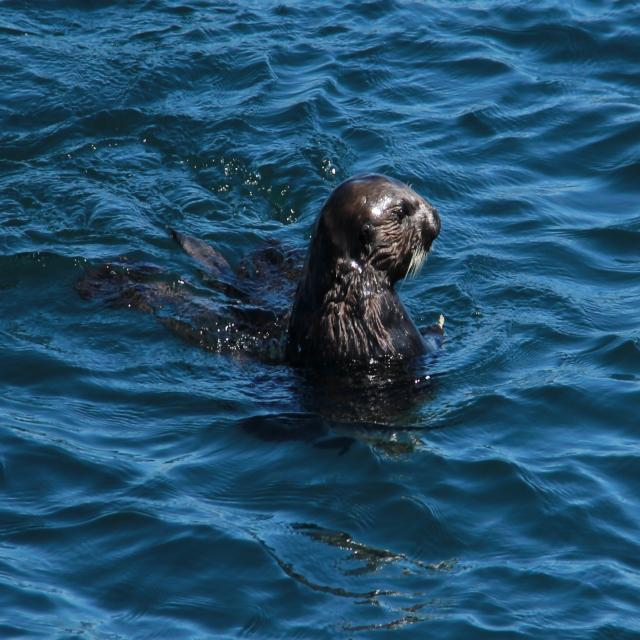otter: (297, 174, 440, 368)
